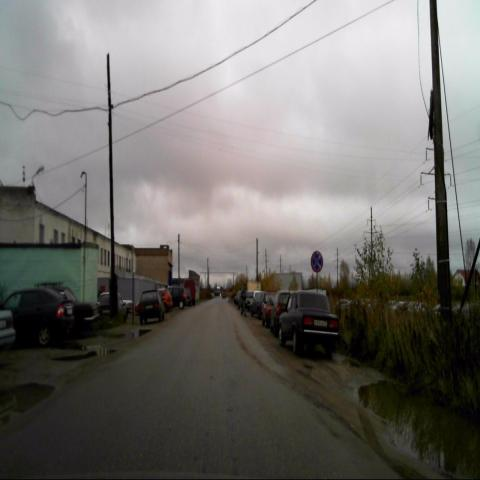3_27: (310, 250, 323, 273)
